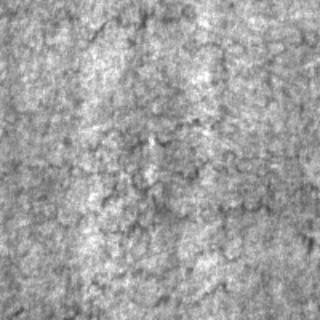crazing: (14, 114, 318, 236), (48, 177, 260, 306), (76, 0, 316, 96)
